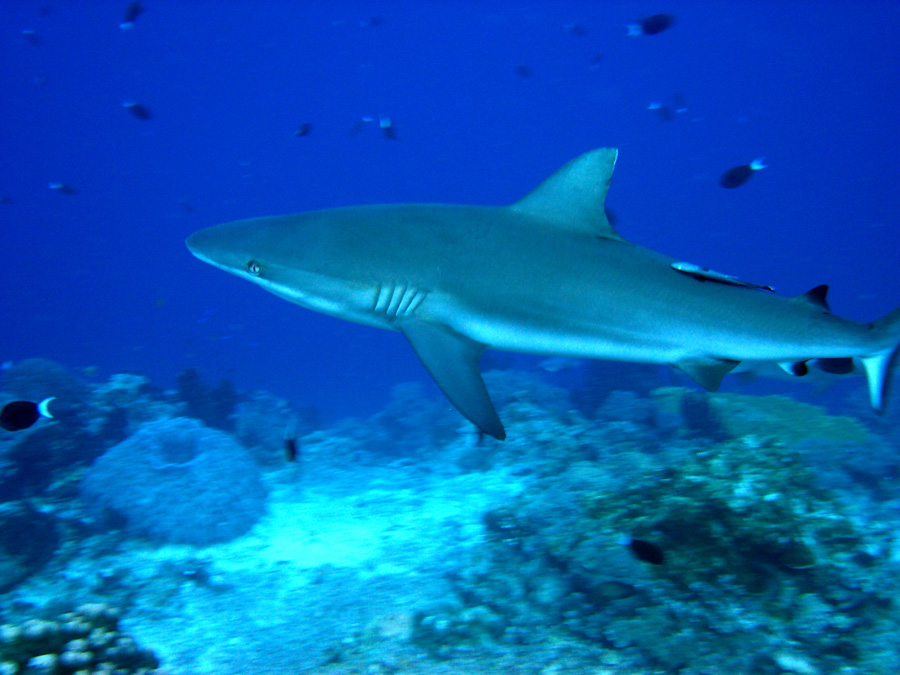Carcharhinus_amblyrhynchos: (161, 137, 900, 434)
